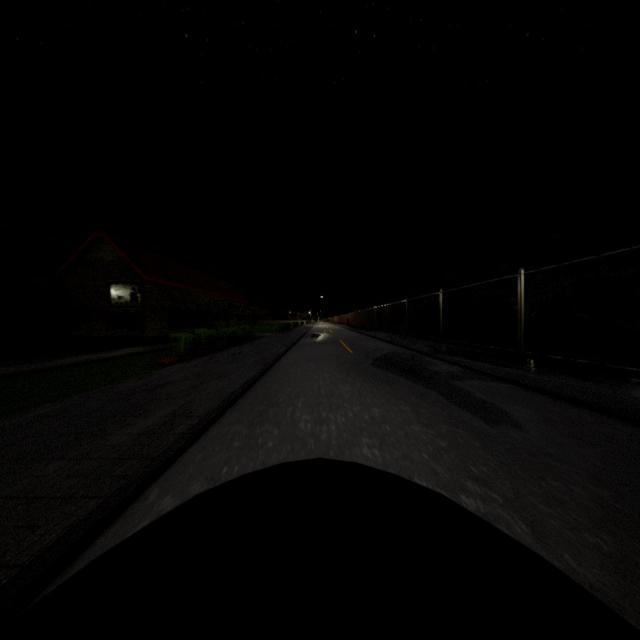Vehicle: (1, 453, 640, 640)
